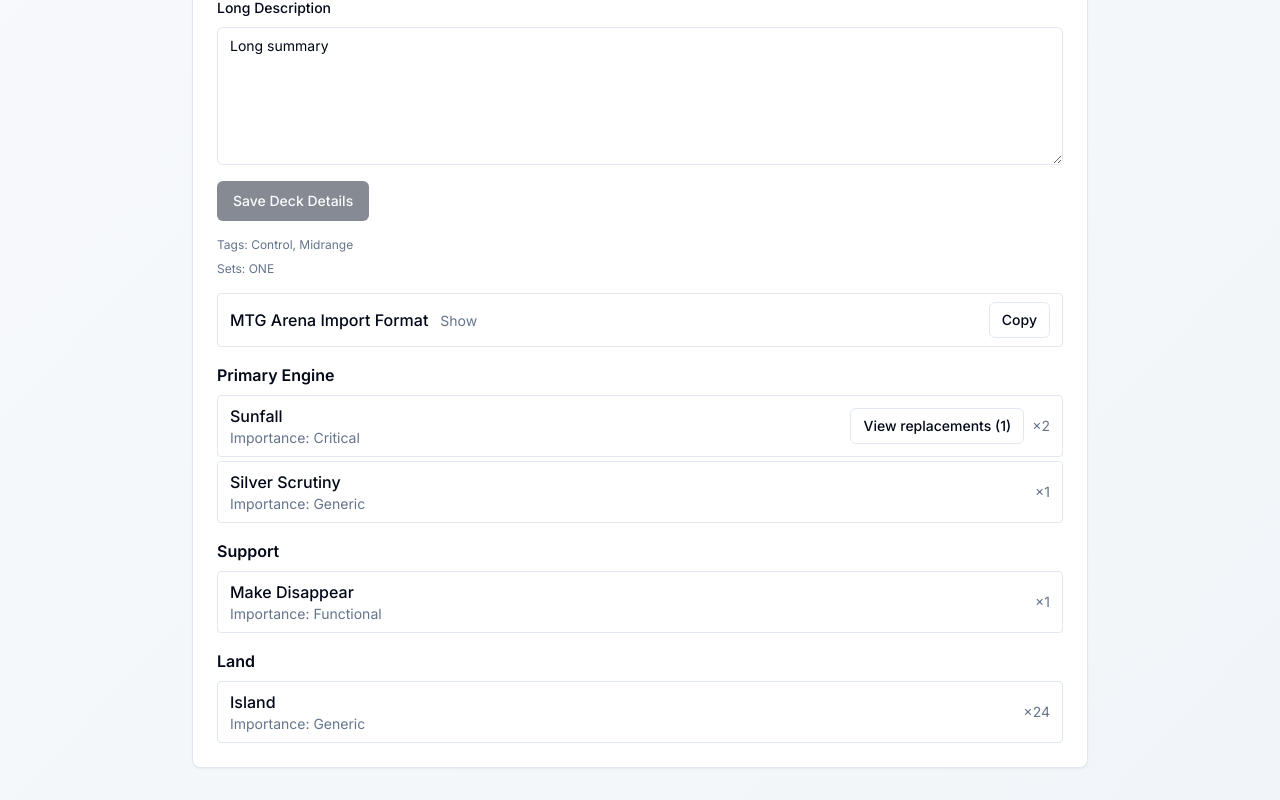
it: DeckPage › opens and closes replacements modal by overlay click and Escape
(page scrolled)
Click the button "View replacements (1)" at (937, 426), box [850, 408, 1024, 444]
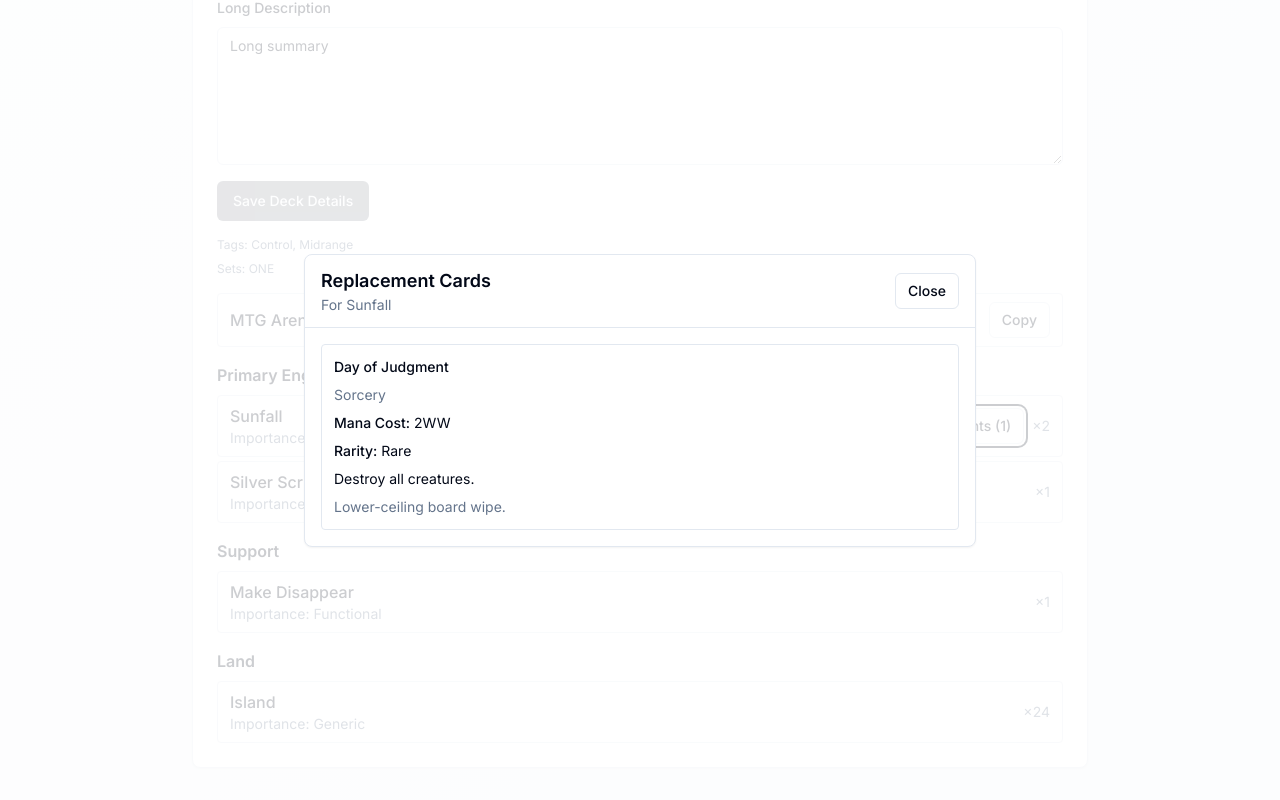
Result: the dialog "Replacement Cards For Sunfall" is shown at [304, 254, 976, 546]
Result: the text "Day of Judgment" is shown at [334, 358, 449, 374]
Click the heading "Replacement Cards" at (406, 280), box [321, 266, 491, 294]
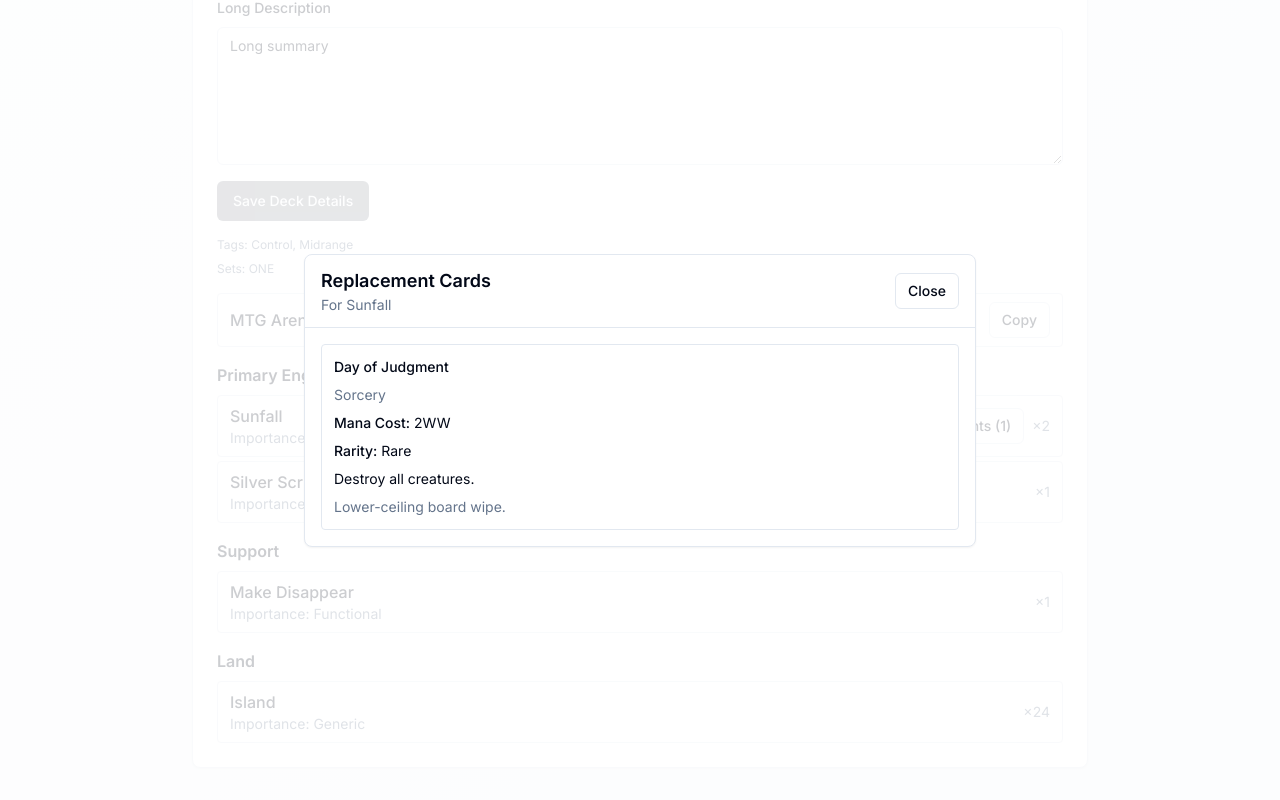
Result: the dialog "Replacement Cards For Sunfall" is shown at [304, 254, 976, 546]
Press Escape
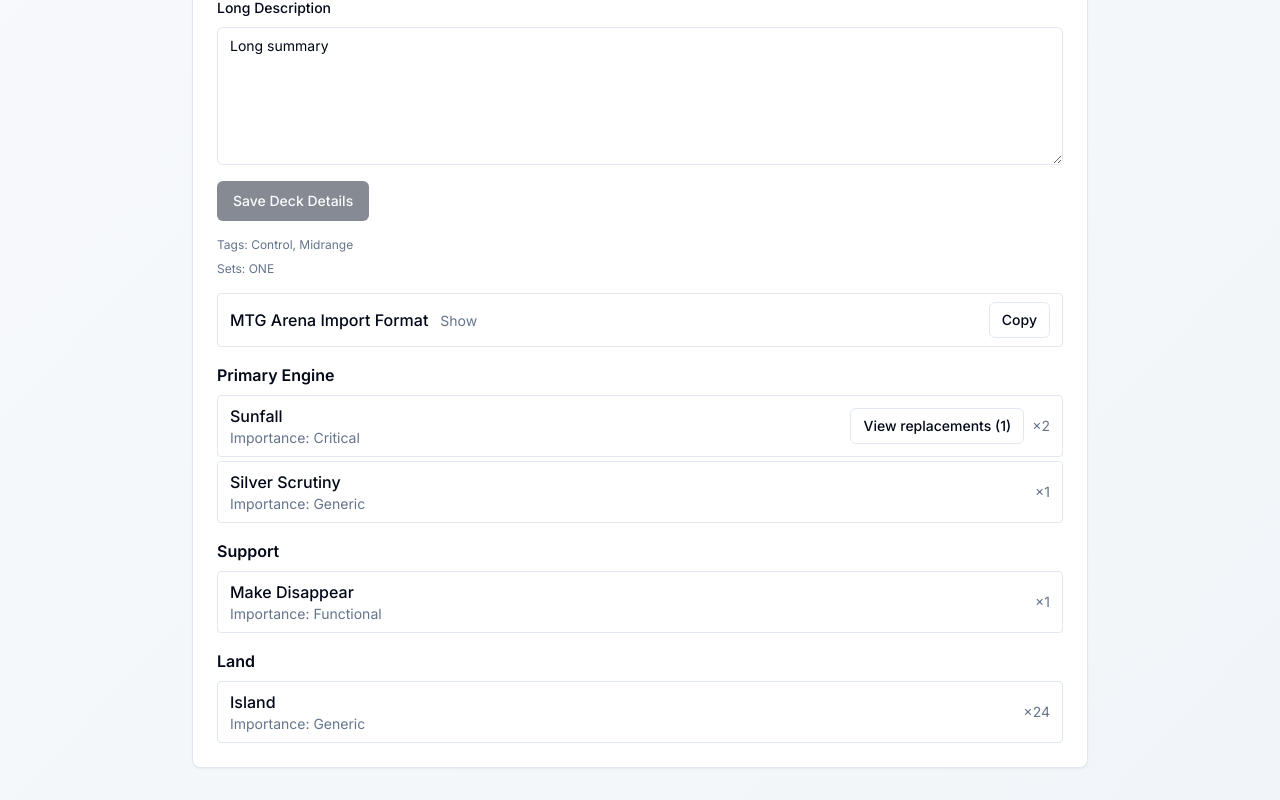
Result: the dialog "Replacement Cards For Sunfall" is gone
Click the button "View replacements (1)" at (937, 426), box [850, 408, 1024, 444]
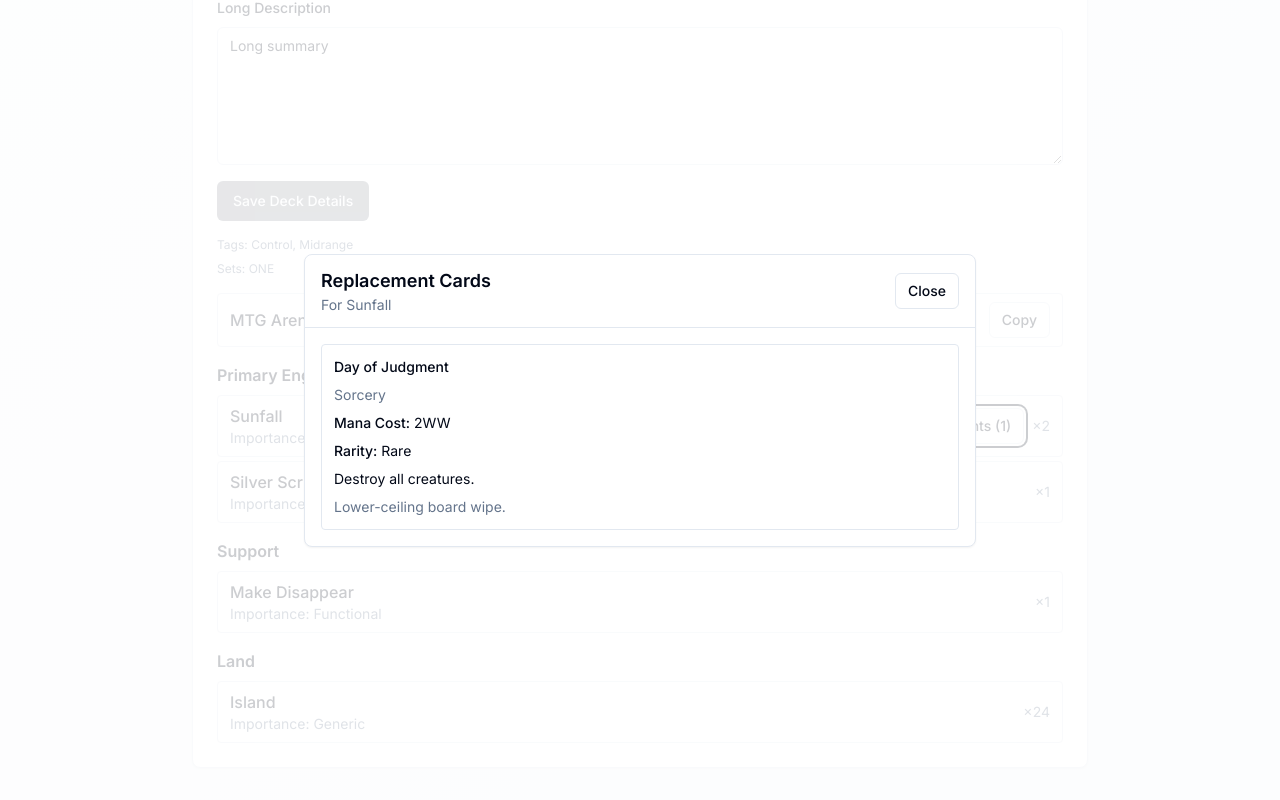
Click the element that starts with "Replacement Cards" at (77, 400), box [0, 0, 1279, 799]
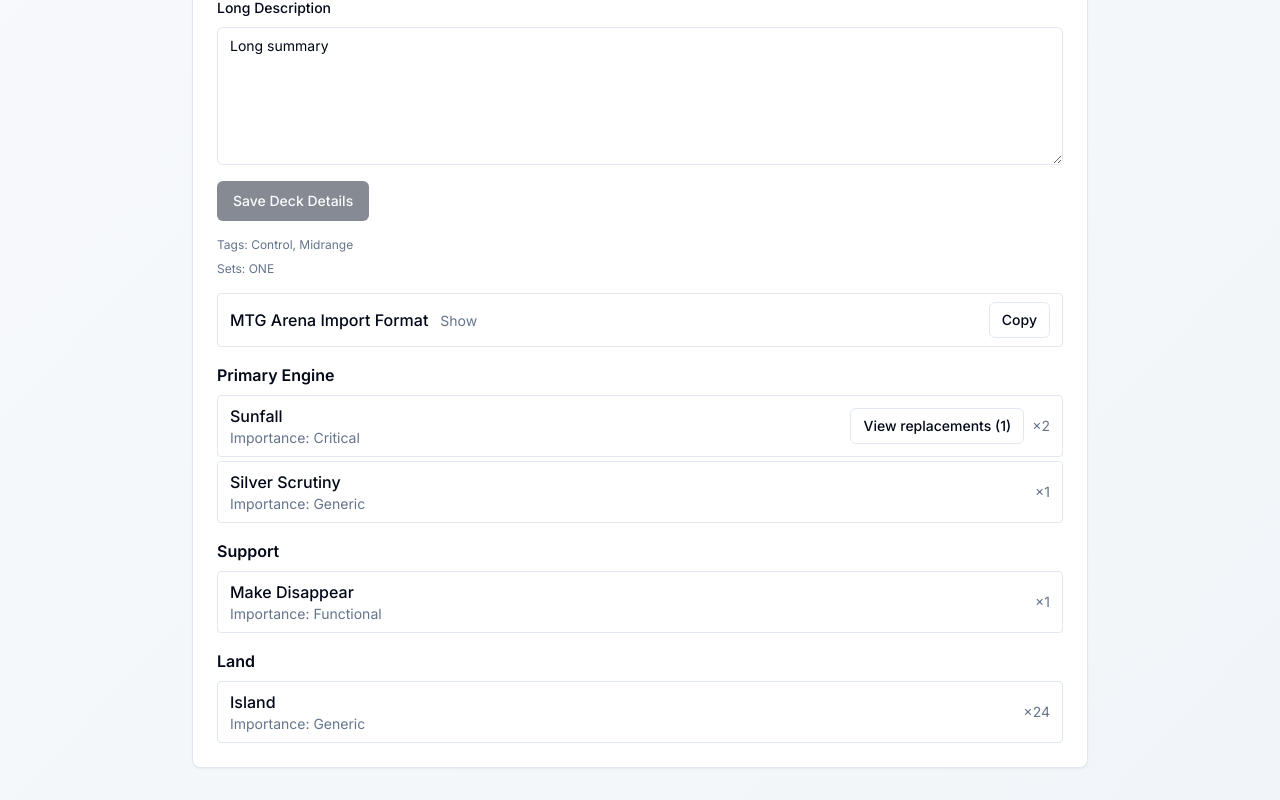
Result: the dialog "Replacement Cards For Sunfall" is gone
